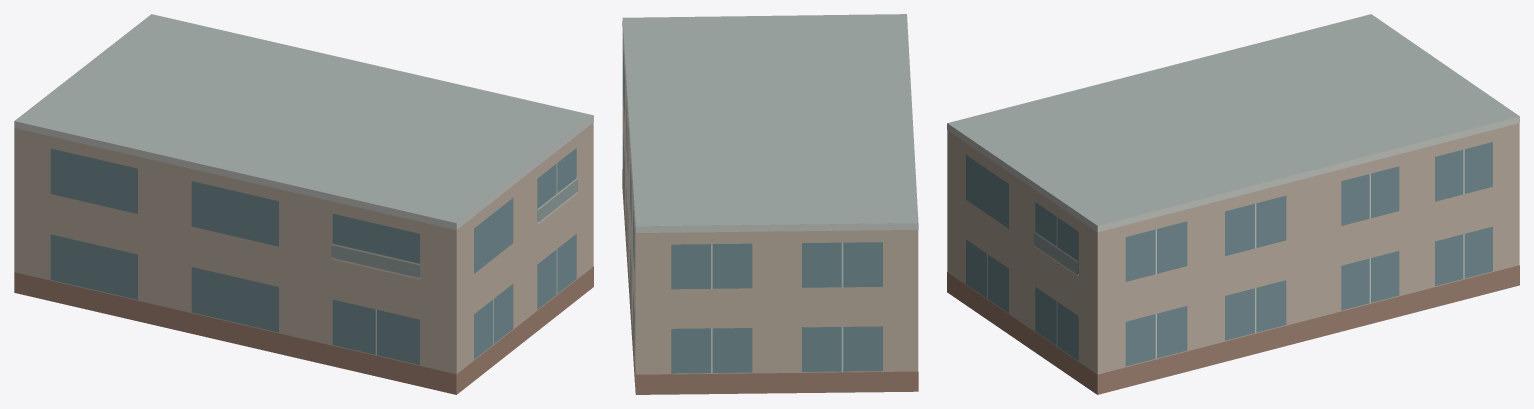
Rendered from survey-upis-32880449.glb.
3 views of the same model, side by side, from view 1: azimuth 30°, elevation 25°; view 2: azimuth 150°, elevation 25°; view 3: azimuth 270°, elevation 25° (orthographic).
Parts seen in each view (by area): view 1: survey-upis-32880449.tmp; view 2: survey-upis-32880449.tmp; view 3: survey-upis-32880449.tmp.
Part boxes in pixels (left/top/right/bottom): survey-upis-32880449.tmp: left=14, top=14, right=593, bottom=394; survey-upis-32880449.tmp: left=622, top=14, right=918, bottom=394; survey-upis-32880449.tmp: left=947, top=14, right=1519, bottom=394.
Size of the model in its own units: 16.39 by 6.1 by 18.73.
